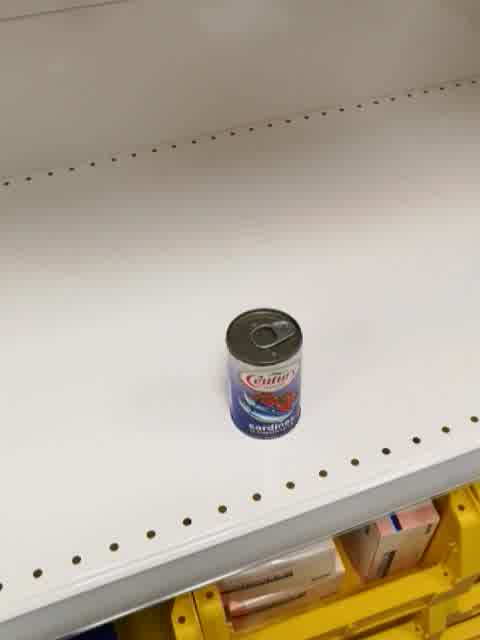sardine: (224, 307, 303, 440)
